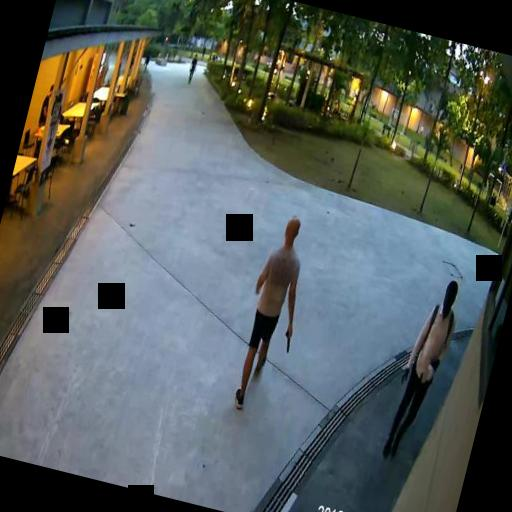Handgun: (280, 324, 294, 352)
